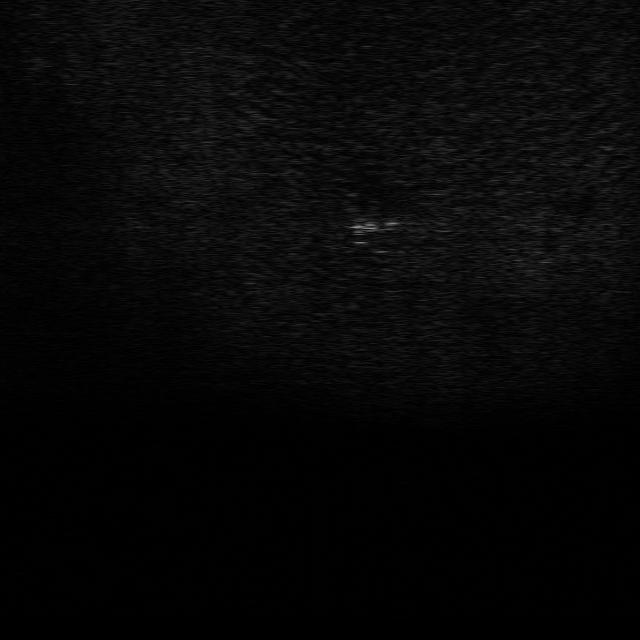plane: (347, 213, 402, 236)
